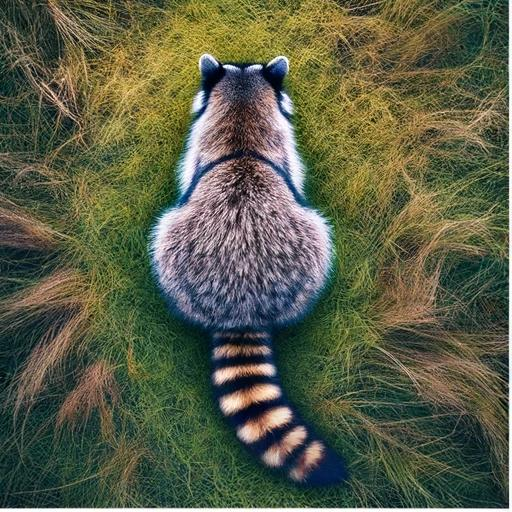raccoon: (138, 42, 358, 494)
